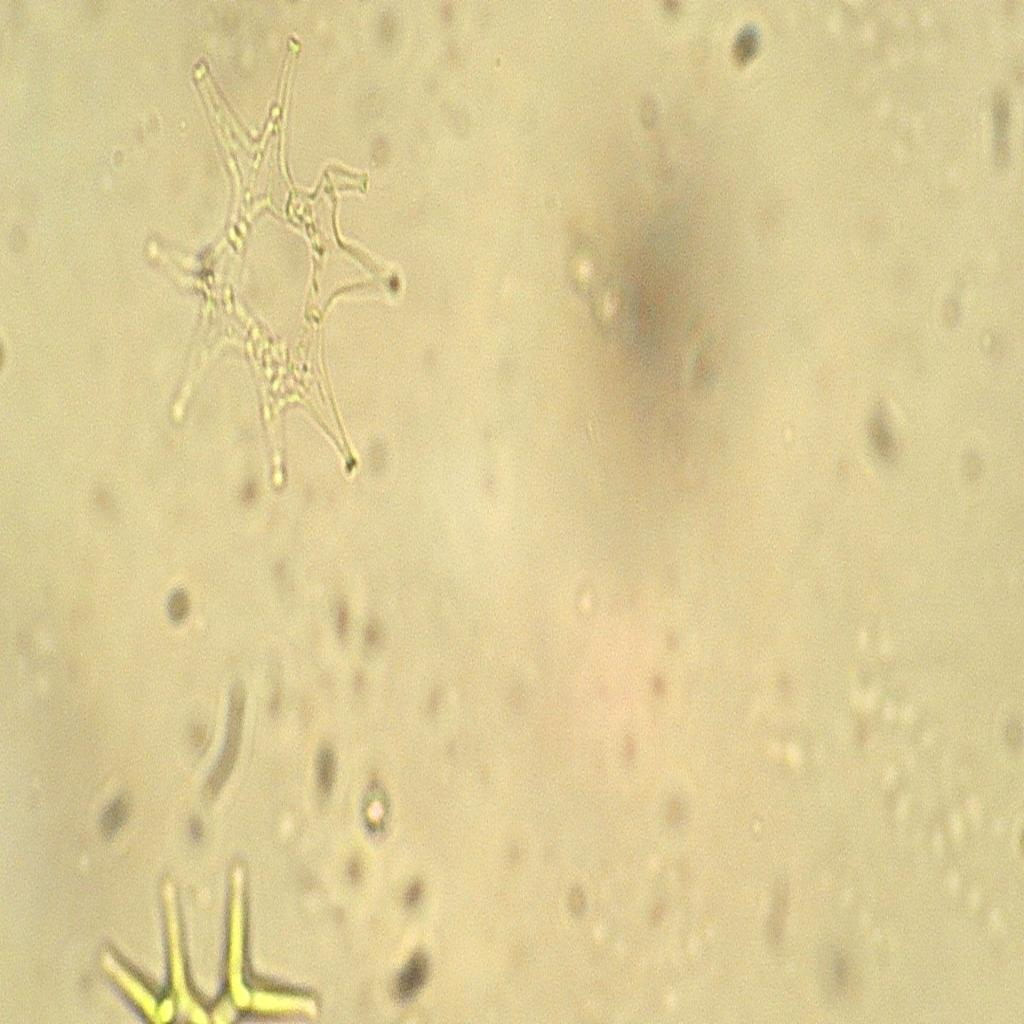Pediastrum_75TH: (125, 30, 415, 534)
